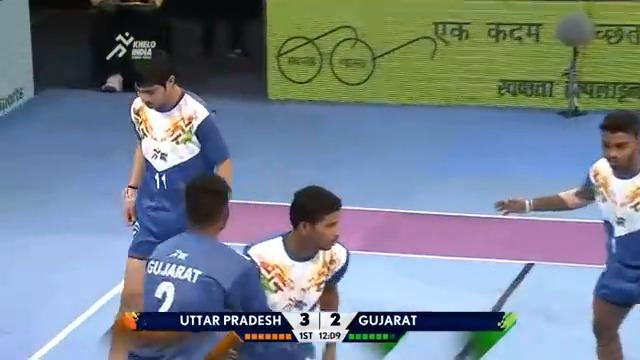Player: (494, 108, 639, 358), (114, 48, 232, 322), (111, 173, 272, 358), (243, 183, 350, 358)
